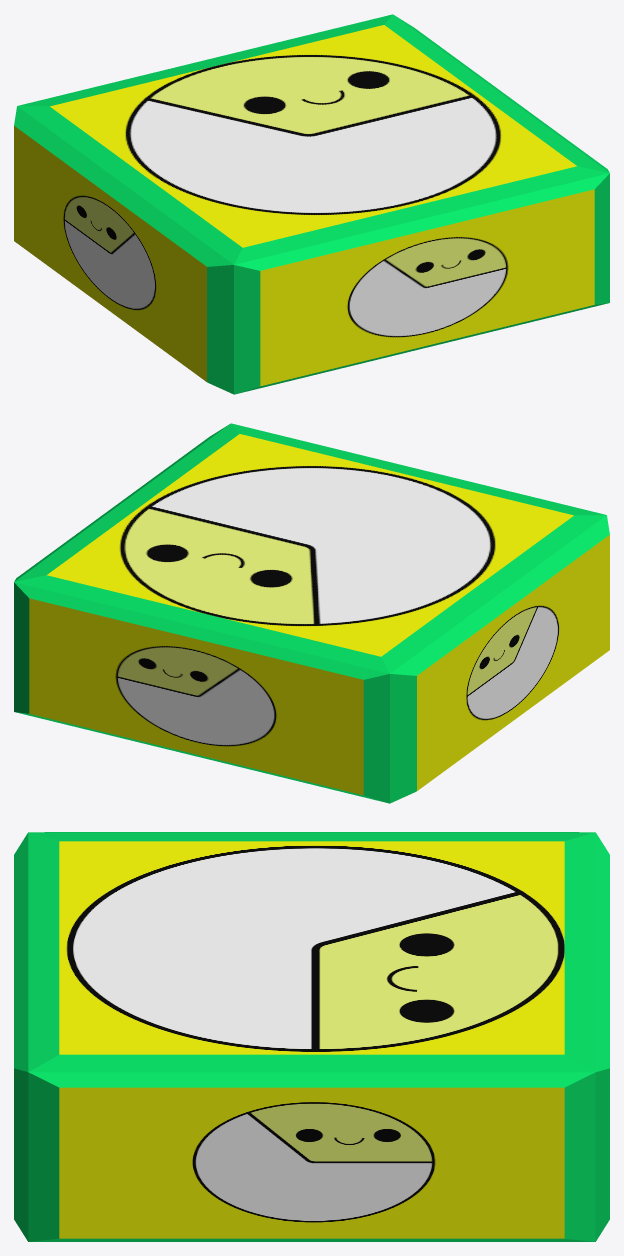
Rendered from Fracciones un tercero.fbx.
3 views of the same model, one above another, from view 1: azimuth 30°, elevation 25°; view 2: azimuth 150°, elevation 25°; view 3: azimuth 270°, elevation 25° (orthographic). The views are drawn at different scales.
Parts seen in each view (by area): view 1: 1/3; view 2: 1/3; view 3: 1/3.
Part boxes in pixels (x1,y1,x2,y2): 1/3: [14, 14, 609, 394]; 1/3: [14, 423, 609, 803]; 1/3: [14, 832, 609, 1241].
Size of the model in its own units: 213 by 69.3 by 210.
Materials: 2 (1 with a texture image).
